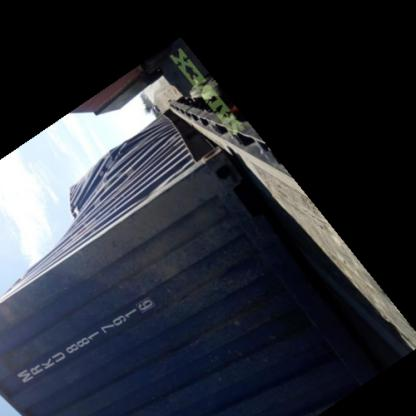Damage: (64, 138, 146, 210)
